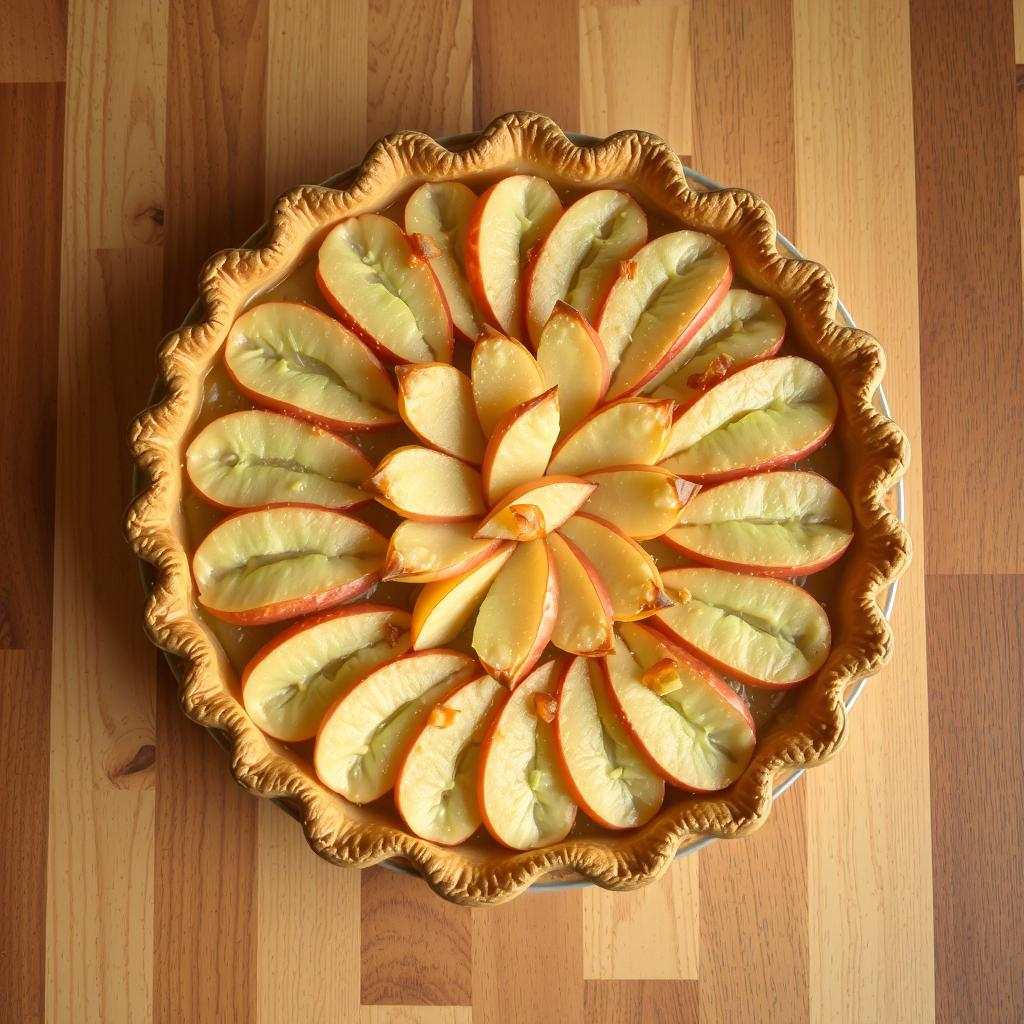pie: (114, 101, 923, 914)
